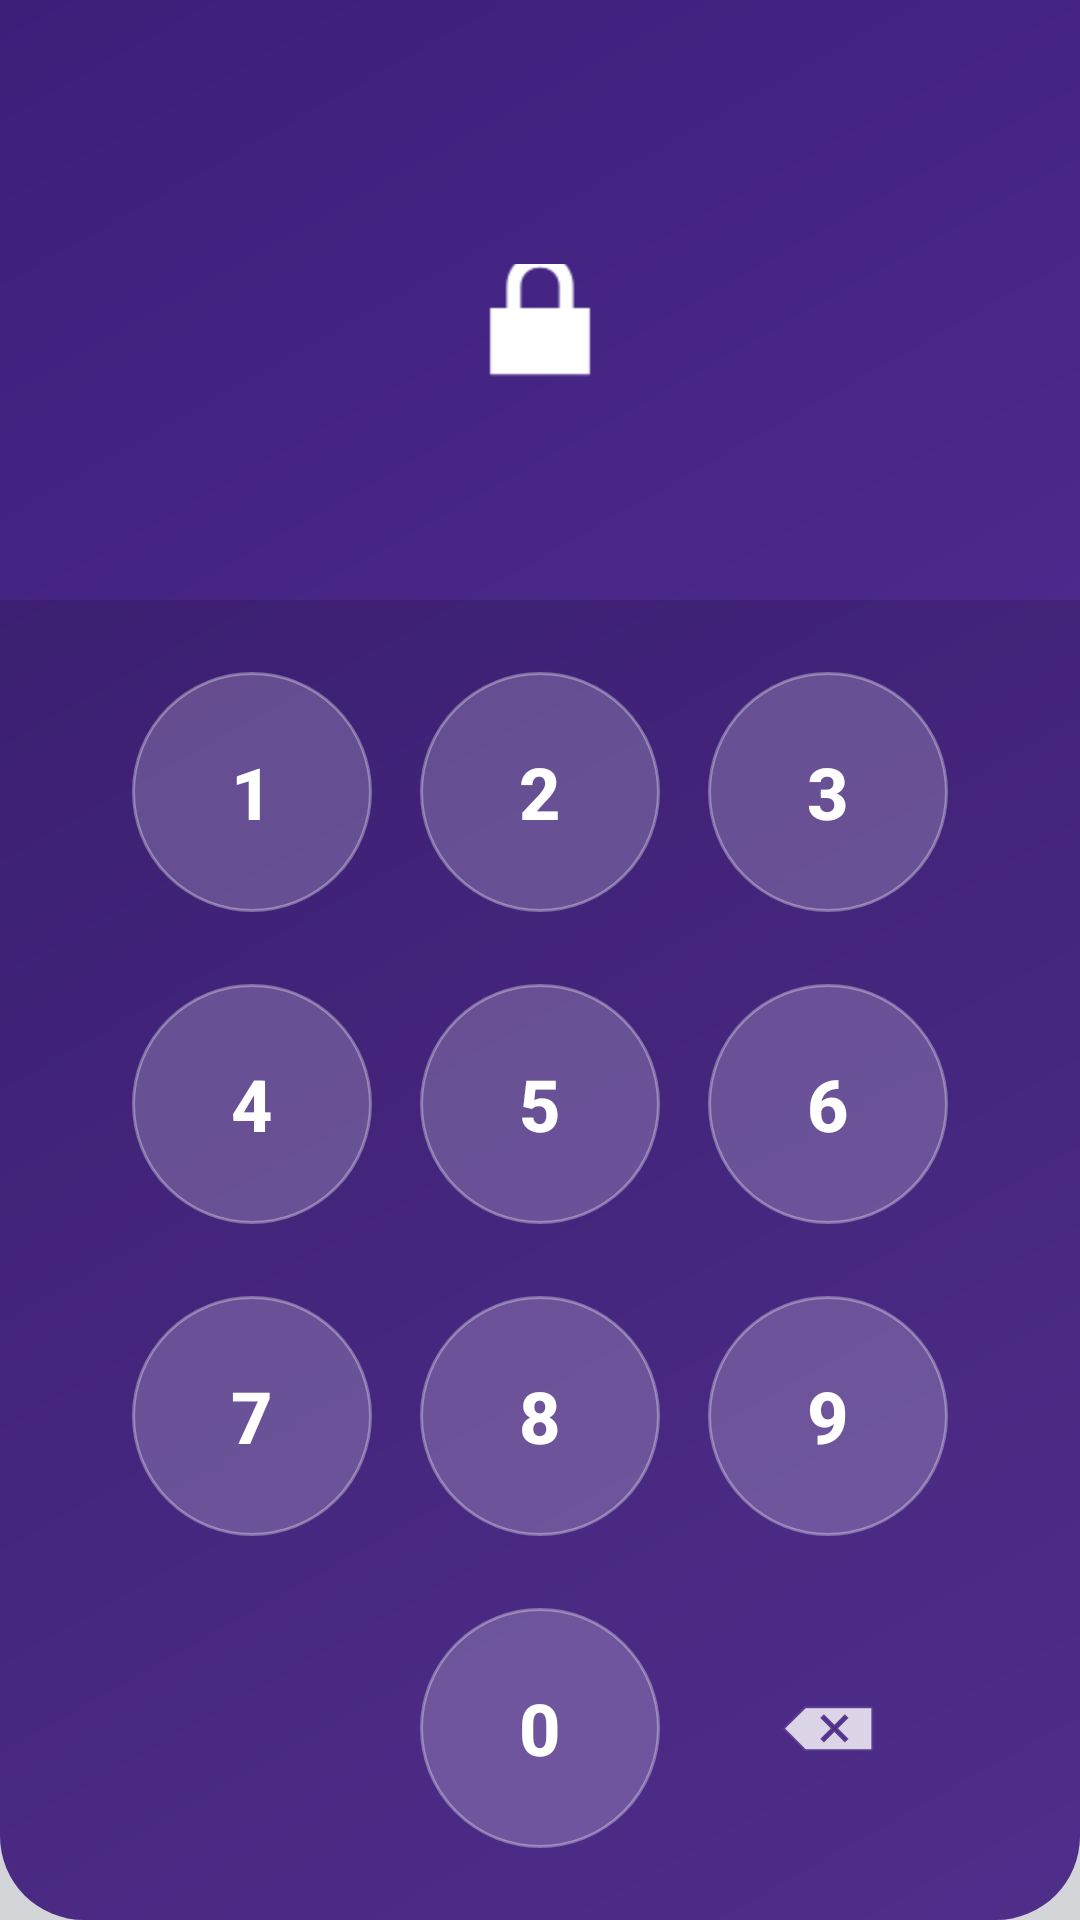

Icon click points for this 1080px×1920px phone screenshot, format (x=x, y=y):
delete: (x=828, y=1729)
lock: (x=540, y=320)
